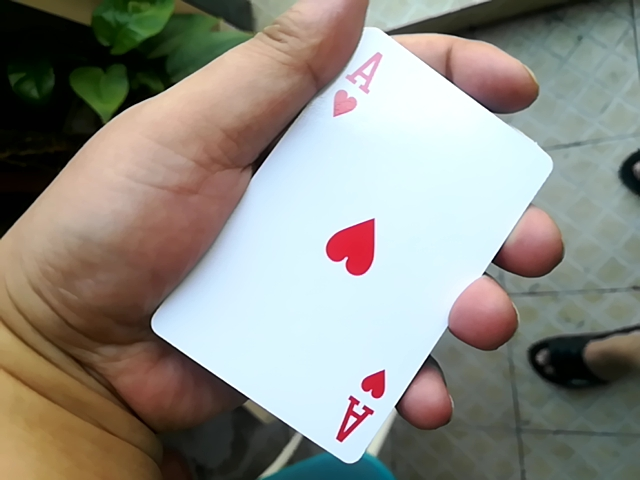hx a: (153, 19, 539, 469)
